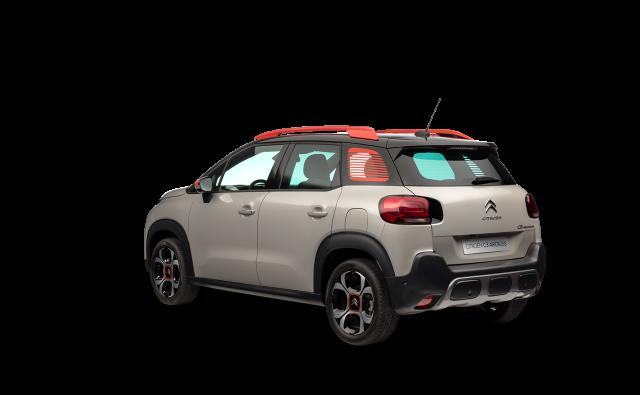car: (129, 90, 557, 343)
